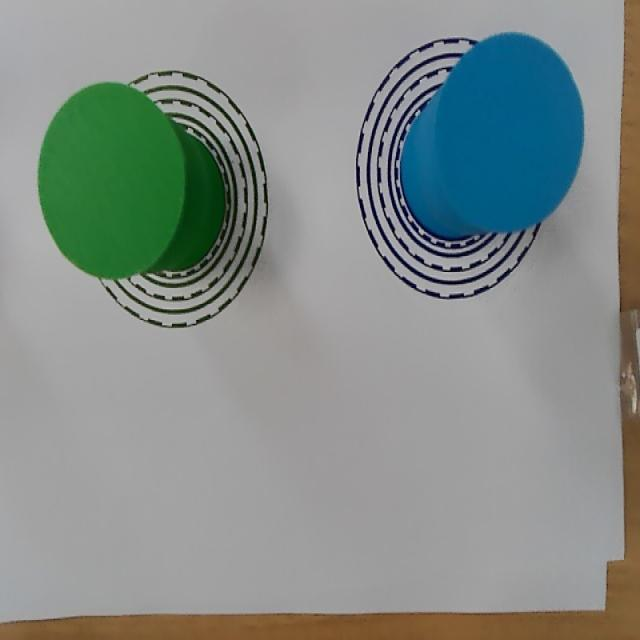b: (435, 32, 584, 233)
g: (38, 81, 186, 281)
